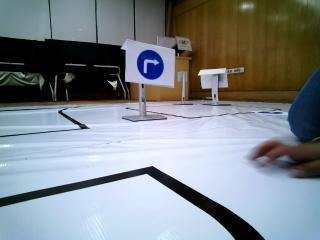right: (129, 42, 176, 87)
